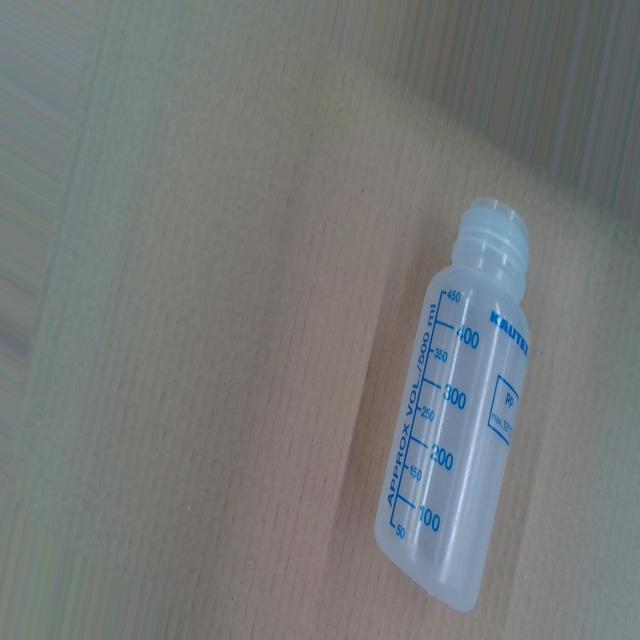bottle: (375, 194, 535, 613)
